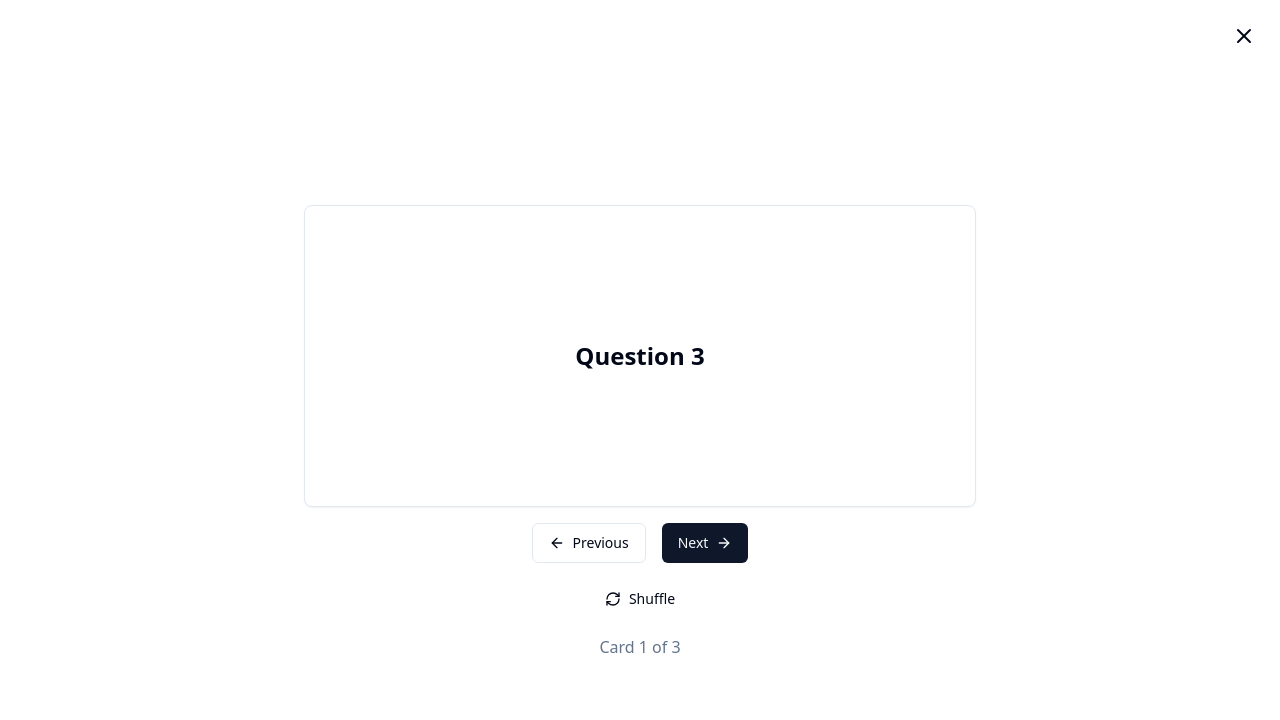
Test case: StudyMode › flips the card from question to answer on click
This screenshot has width=1280, height=720.
Expected: the text "Question 3" is shown, [575,340,705,372]
Click the text "Question 3" at [640, 356], box [304,205,976,507]
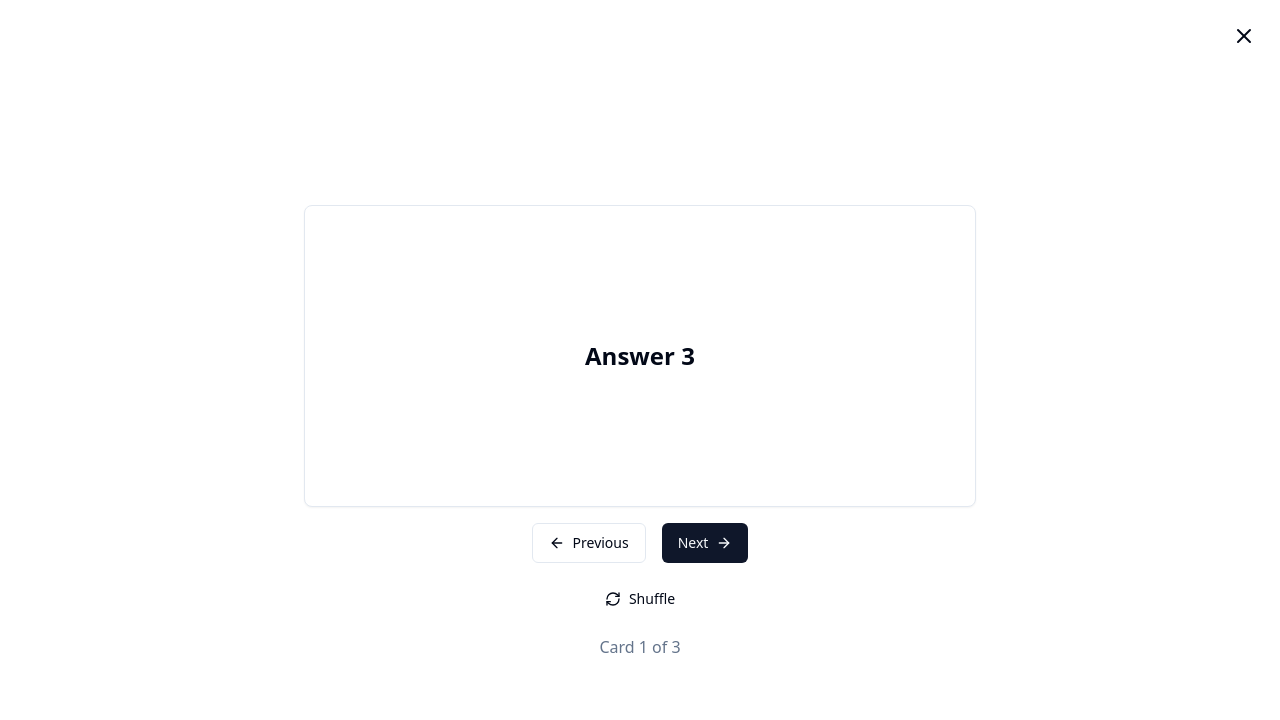
Expected: the text "Question 3" is gone
Expected: the text "Answer 3" is shown, [585,340,695,372]
Click the text "Question 3" at [640, 356], box [304,205,976,507]
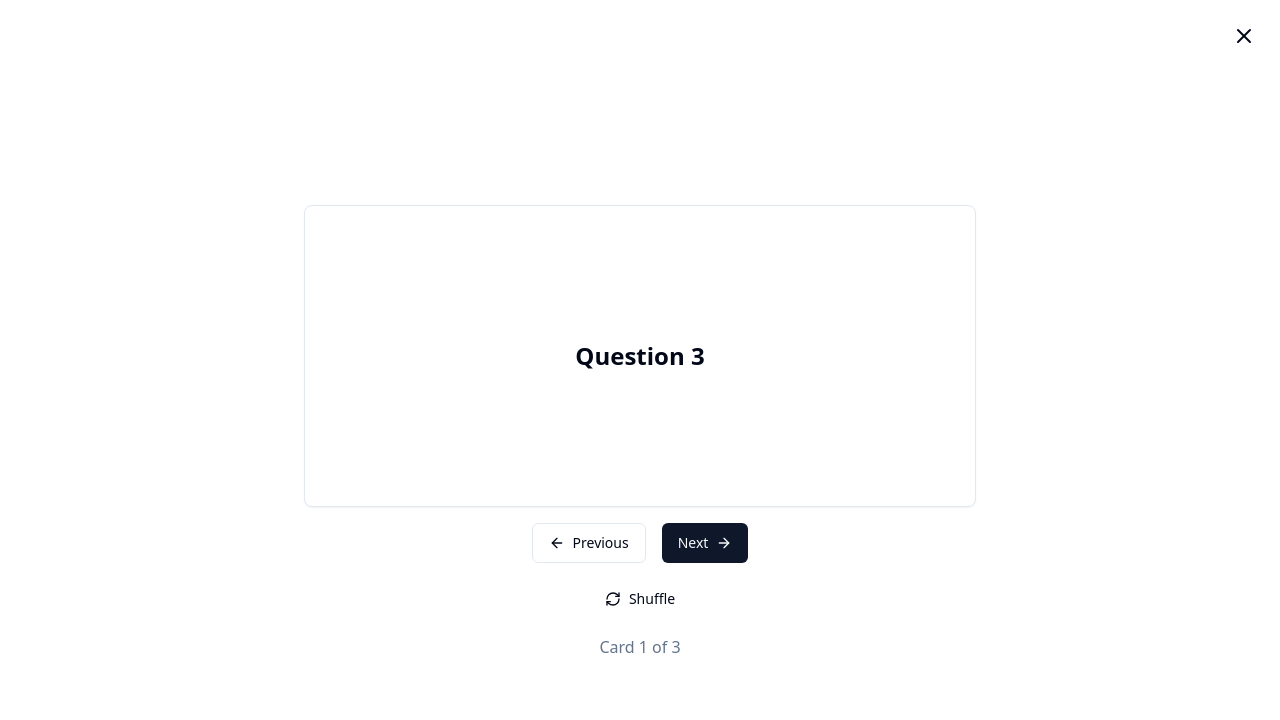
Expected: the text "Question 3" is shown, [575,340,705,372]
